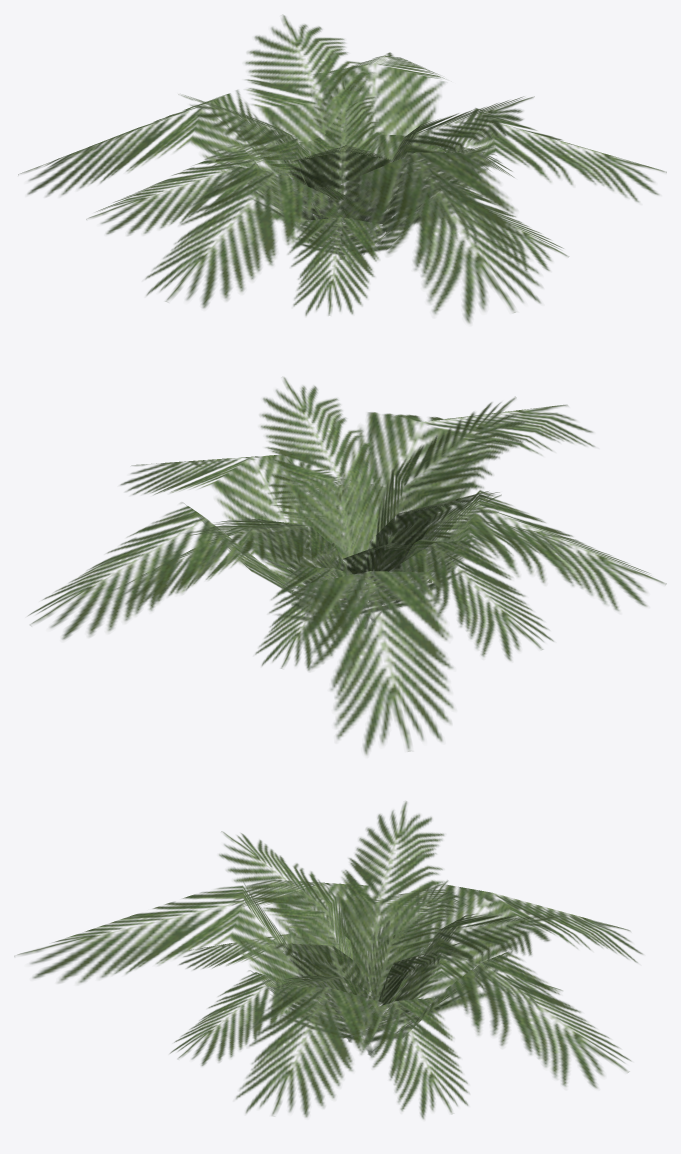
The model's file is mbushtro_1.glb.
3 renders of one model, top to bottom at view 1: azimuth 30°, elevation 25°; view 2: azimuth 150°, elevation 25°; view 3: azimuth 270°, elevation 25°, orthographic. The views are drawn at different scales.
Parts seen in each view (by area): view 1: mbushtro_1; view 2: mbushtro_1; view 3: mbushtro_1.
Part boxes in pixels (left/top/right/bottom): mbushtro_1: left=18, top=14, right=666, bottom=324; mbushtro_1: left=27, top=377, right=666, bottom=755; mbushtro_1: left=14, top=801, right=643, bottom=1119.
Size of the model in its own units: 6.55 by 2.48 by 7.43.
Materials: 1 (1 with a texture image).
